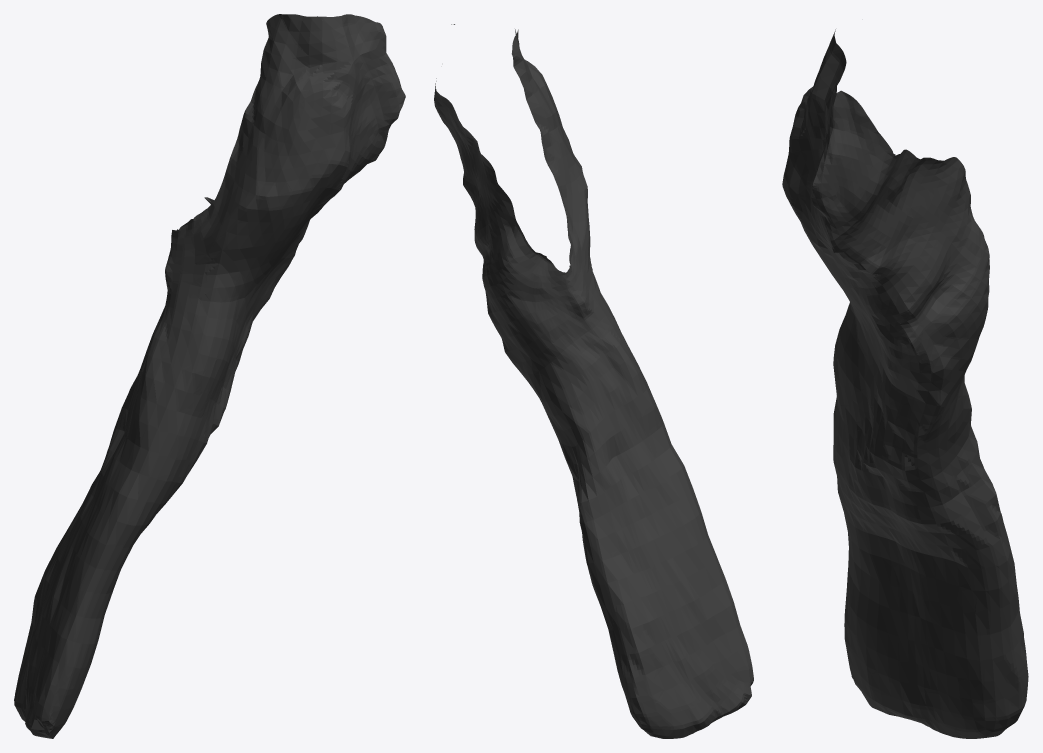
Rendered from canine_kidney_ureter.glb.
3 renders of one model, left to right at view 1: azimuth 30°, elevation 25°; view 2: azimuth 150°, elevation 25°; view 3: azimuth 270°, elevation 25°, orthographic. The views are drawn at different scales.
Visible parts, largest first — view 1: canine_kidney_ureter; view 2: canine_kidney_ureter; view 3: canine_kidney_ureter.
Part boxes in pixels (x1,y1,x2,y2): canine_kidney_ureter: [14, 14, 405, 738]; canine_kidney_ureter: [434, 24, 753, 738]; canine_kidney_ureter: [782, 29, 1028, 738].
Size of the model in its own units: 0.152 by 0.2819 by 0.0741.
1 material, 1 textured.
